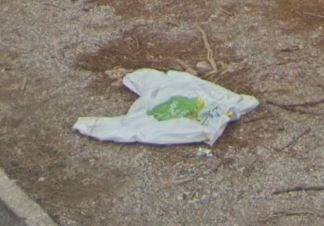trash: (69, 48, 262, 161)
